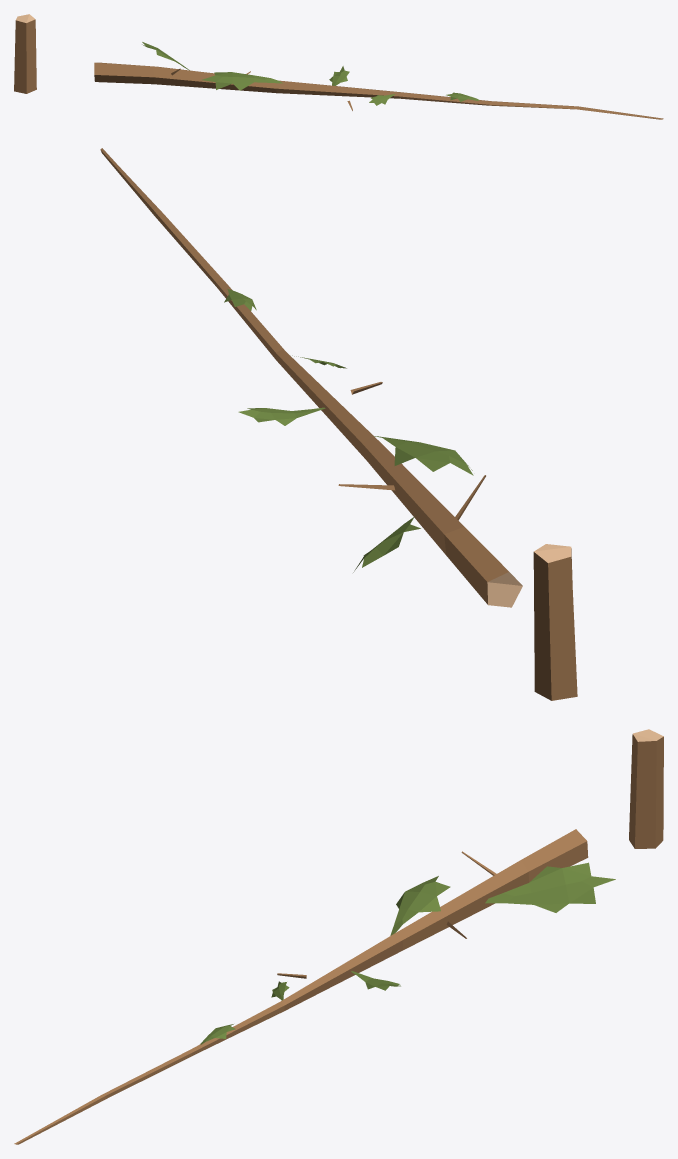
Rendered from Dead_Pine_Tree_crk_l_09_LOD.fbx.
3 renders of one model, top to bottom at view 1: azimuth 30°, elevation 25°; view 2: azimuth 150°, elevation 25°; view 3: azimuth 270°, elevation 25°, orthographic. The views are drawn at different scales.
Parts seen in each view (by area): view 1: Dead_Pine_Tree_crk_l_09_LOD0; view 2: Dead_Pine_Tree_crk_l_09_LOD0; view 3: Dead_Pine_Tree_crk_l_09_LOD0.
Boxes of the visible parts, x1=… form: Dead_Pine_Tree_crk_l_09_LOD0: x1=14, y1=14, x2=663, y2=119; Dead_Pine_Tree_crk_l_09_LOD0: x1=100, y1=148, x2=577, y2=700; Dead_Pine_Tree_crk_l_09_LOD0: x1=14, y1=729, x2=663, y2=1144.
Size of what is drawn, in the model's own units: 1519 by 230 by 1255.
